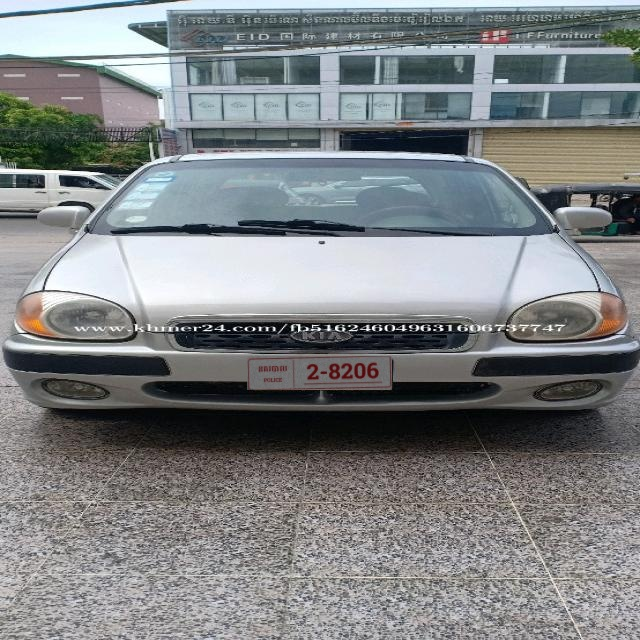Plate Number: (247, 356, 393, 391)
